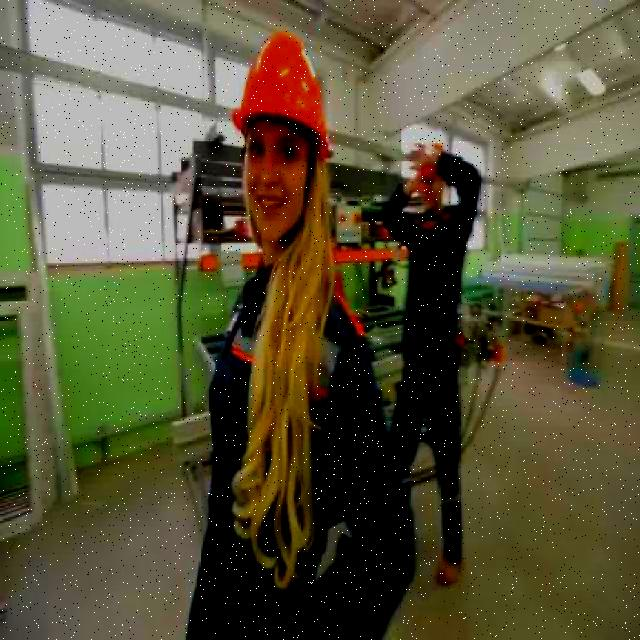Helmet: (233, 28, 335, 161)
Mask: (184, 251, 420, 638), (384, 155, 482, 562)
